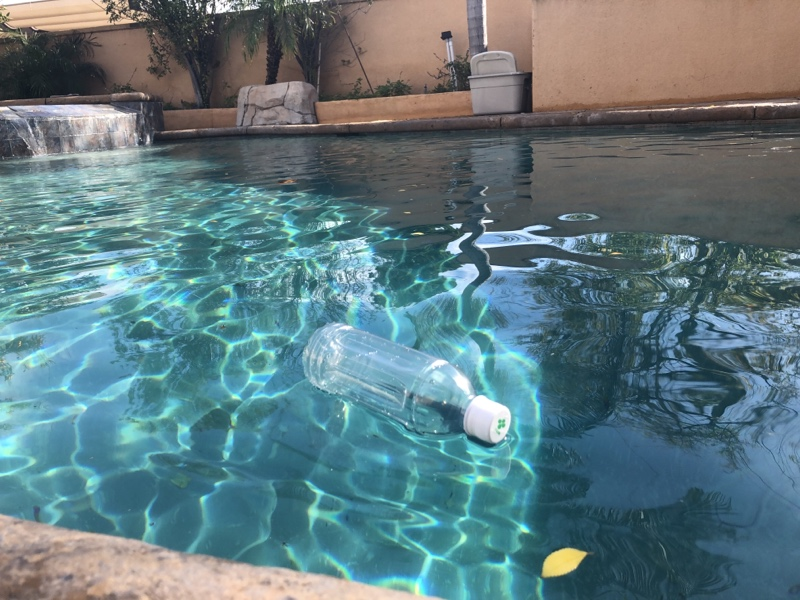Plastic Bottle: (301, 319, 516, 447)
